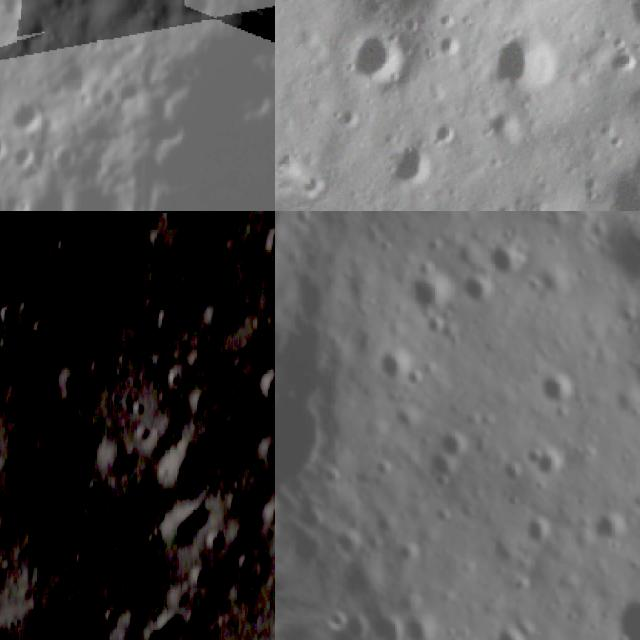crater: (275, 306, 394, 532), (569, 211, 640, 312), (481, 27, 563, 108), (336, 18, 414, 95), (370, 123, 448, 199), (420, 402, 490, 471), (517, 354, 585, 422), (475, 221, 541, 287), (367, 330, 433, 396), (505, 496, 568, 560), (579, 486, 640, 552), (516, 428, 578, 491), (154, 444, 212, 509), (355, 0, 469, 29), (319, 510, 375, 566), (399, 260, 454, 315), (158, 500, 203, 565), (597, 574, 640, 640), (478, 600, 547, 640), (455, 262, 508, 314), (526, 211, 604, 242), (123, 604, 188, 640), (0, 95, 49, 140), (388, 604, 447, 640), (388, 528, 432, 573), (613, 335, 640, 402), (48, 134, 84, 180), (151, 300, 179, 351), (249, 369, 275, 406), (256, 224, 275, 270), (616, 0, 640, 34), (0, 0, 27, 24), (0, 305, 22, 334), (258, 501, 275, 538)
